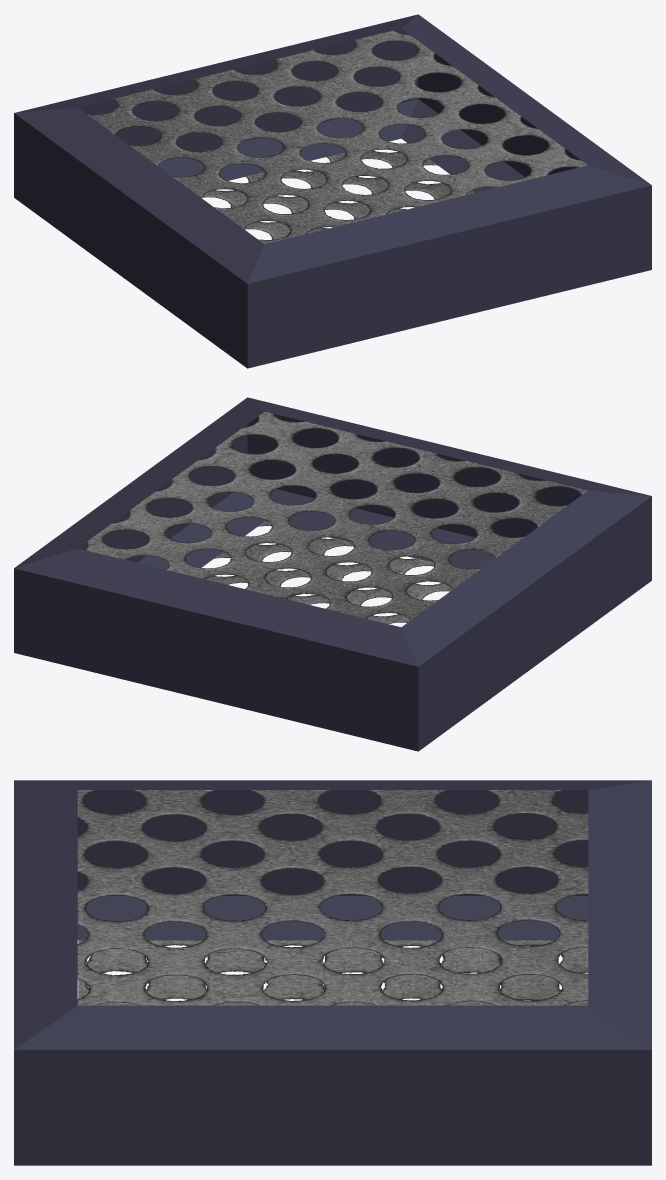
The model's file is ExampleTile.FBX.
3 renders of one model, top to bottom at view 1: azimuth 30°, elevation 25°; view 2: azimuth 150°, elevation 25°; view 3: azimuth 270°, elevation 25°, orthographic. The views are drawn at different scales.
Parts seen in each view (by area): view 1: Box001; view 2: Box001; view 3: Box001.
Part boxes in pixels (<box>): Box001: <box>14,14,651,368</box>; Box001: <box>14,397,651,751</box>; Box001: <box>14,780,651,1165</box>.
Size of the model in its own units: 50 by 50 by 13.
